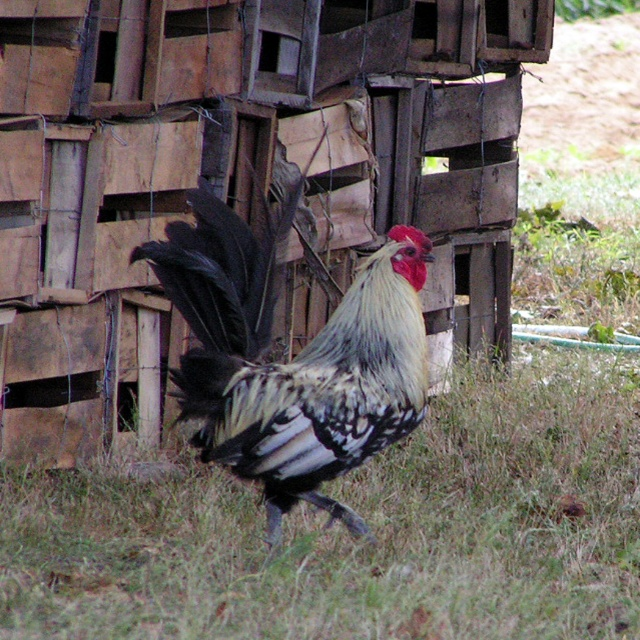Chicken: (149, 214, 454, 533)
